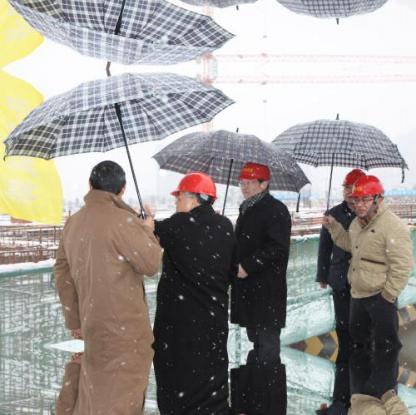No Safety Helmet: (86, 157, 128, 208)
Safety Helmet: (168, 170, 219, 222), (349, 173, 391, 216), (238, 158, 271, 199)
